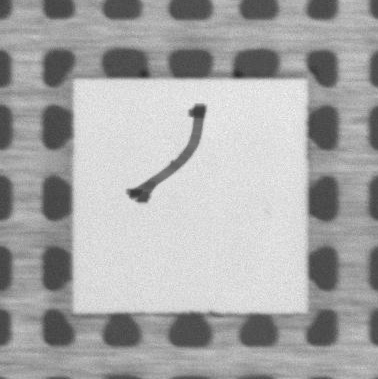DIE_INK: (125, 101, 207, 203)
